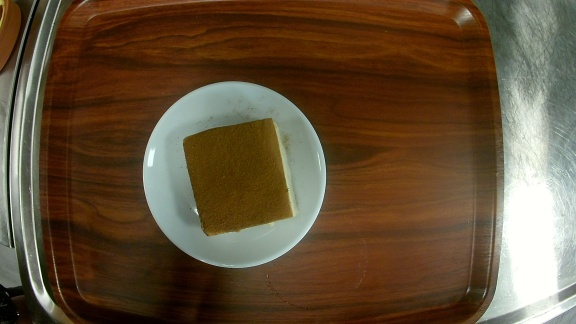tiramisu: (142, 81, 326, 267)
